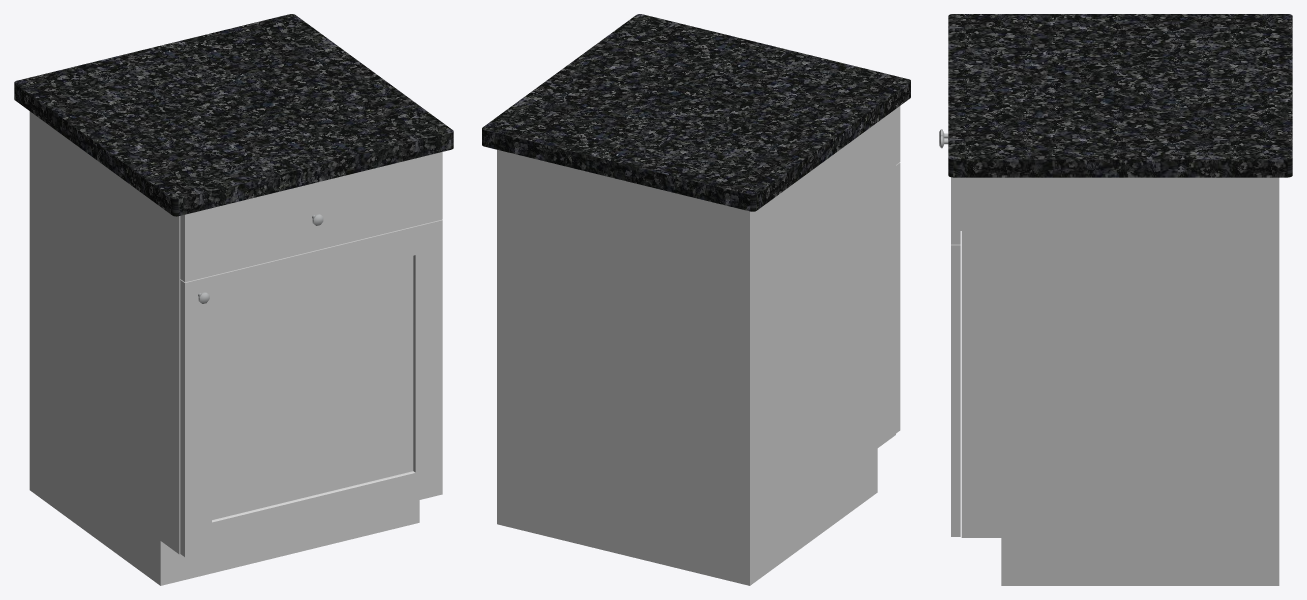
3 renders of one model, left to right at view 1: azimuth 30°, elevation 25°; view 2: azimuth 150°, elevation 25°; view 3: azimuth 270°, elevation 25°, orthographic. The views are drawn at different scales.
Parts seen in each view (by area): view 1: geo_71-node, geo_65-node; view 2: geo_71-node, geo_65-node; view 3: geo_71-node, geo_65-node.
Part boxes in pixels (box(x1,y1,x2,y2)): geo_71-node: box(29, 111, 442, 585); geo_65-node: box(14, 14, 453, 216); geo_71-node: box(497, 106, 900, 585); geo_65-node: box(482, 14, 910, 211); geo_71-node: box(951, 177, 1279, 585); geo_65-node: box(948, 14, 1292, 177).
Size of the model in its own units: 0.6604 by 0.9144 by 0.6779.
3 materials, 1 textured.
